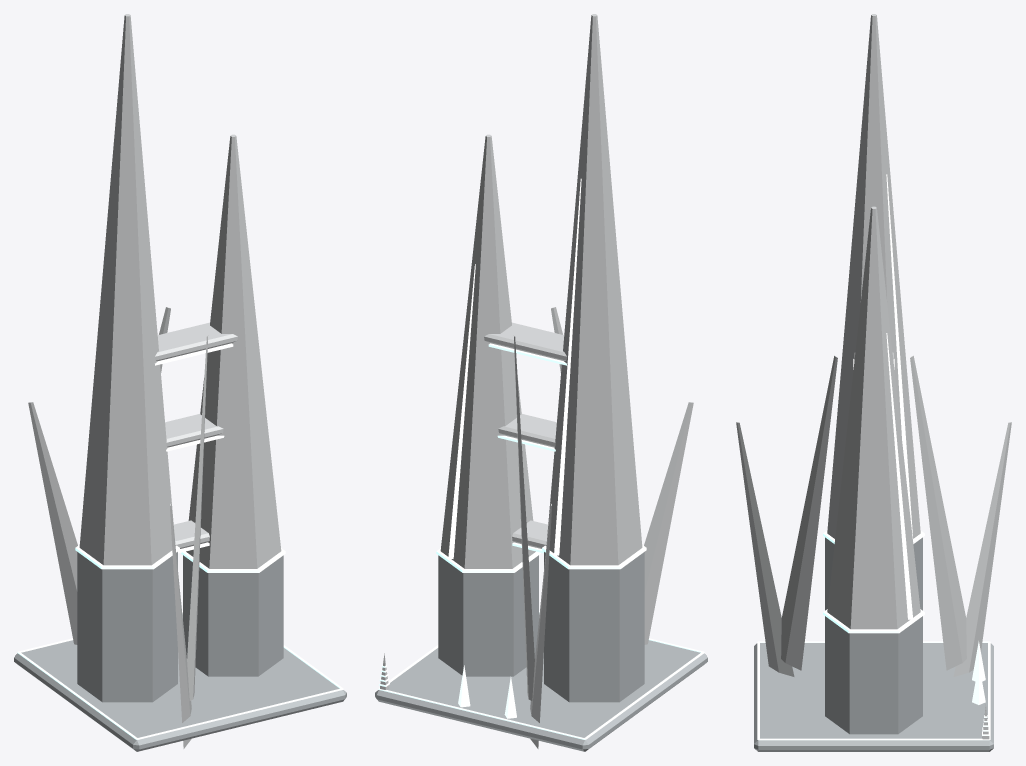
The model's file is zone_high_3_t5.glb.
3 views of the same model, side by side, from view 1: azimuth 30°, elevation 25°; view 2: azimuth 150°, elevation 25°; view 3: azimuth 270°, elevation 25° (orthographic). The views are drawn at different scales.
Parts seen in each view (by area): view 1: zone_high_3_t5, detail; view 2: zone_high_3_t5, detail; view 3: zone_high_3_t5, detail.
Part boxes in pixels (x1,y1,x2,y2): zone_high_3_t5: (14,14,346,751); detail: (17,611,343,739); zone_high_3_t5: (375,14,707,751); detail: (378,611,704,739); zone_high_3_t5: (736,14,1011,751); detail: (757,641,990,740).
Size of the model in its own units: 27.5 by 85.69 by 31.56.
